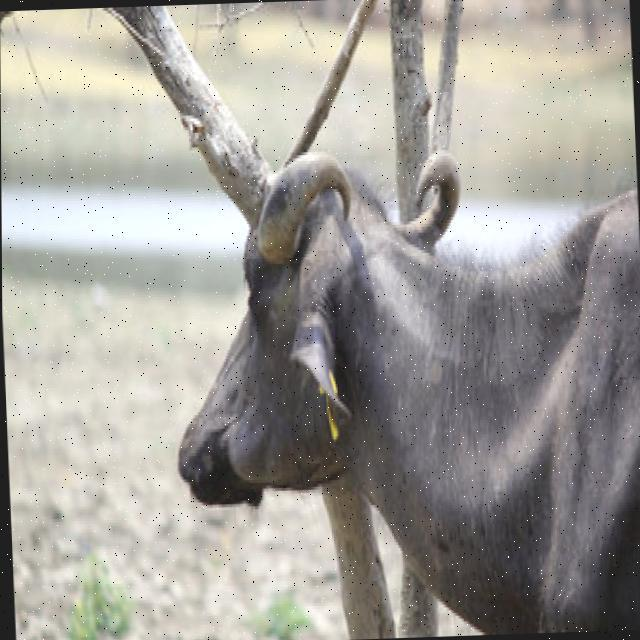Buffalo: (158, 137, 640, 640)
